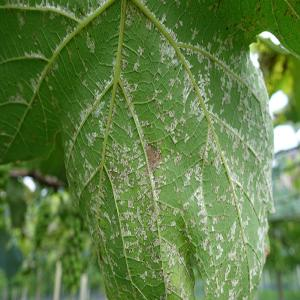Folha: (0, 0, 298, 298)
Fungo: (75, 41, 247, 295), (183, 66, 219, 126), (104, 140, 135, 198), (135, 171, 165, 230), (251, 96, 276, 160), (193, 185, 212, 251), (125, 230, 159, 265), (255, 165, 280, 206), (39, 0, 82, 22), (224, 123, 253, 153), (76, 99, 113, 122), (230, 221, 248, 268), (226, 162, 245, 206), (159, 240, 188, 268), (159, 25, 178, 64), (89, 190, 109, 226), (162, 105, 185, 136), (221, 275, 246, 300), (80, 153, 96, 192), (256, 214, 270, 258), (144, 142, 163, 173), (23, 42, 48, 63), (121, 70, 136, 104), (64, 136, 78, 164), (250, 262, 264, 284), (28, 73, 43, 92), (7, 91, 26, 104), (85, 31, 95, 53), (85, 131, 97, 147), (172, 147, 183, 164), (256, 74, 266, 91), (140, 269, 148, 282), (92, 0, 113, 3)
